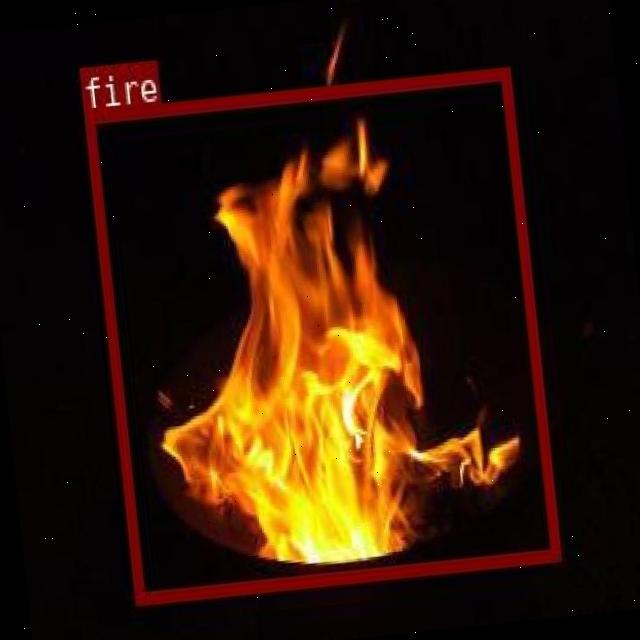fire: (81, 65, 560, 603)
